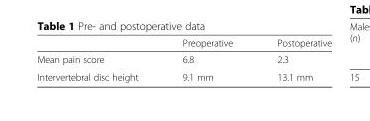table: (36, 36, 331, 82)
table column: (36, 36, 159, 82), (159, 36, 254, 82), (254, 36, 331, 82)
table column header: (36, 36, 331, 50)
table row: (36, 50, 331, 67), (36, 67, 331, 82), (36, 36, 331, 50)
